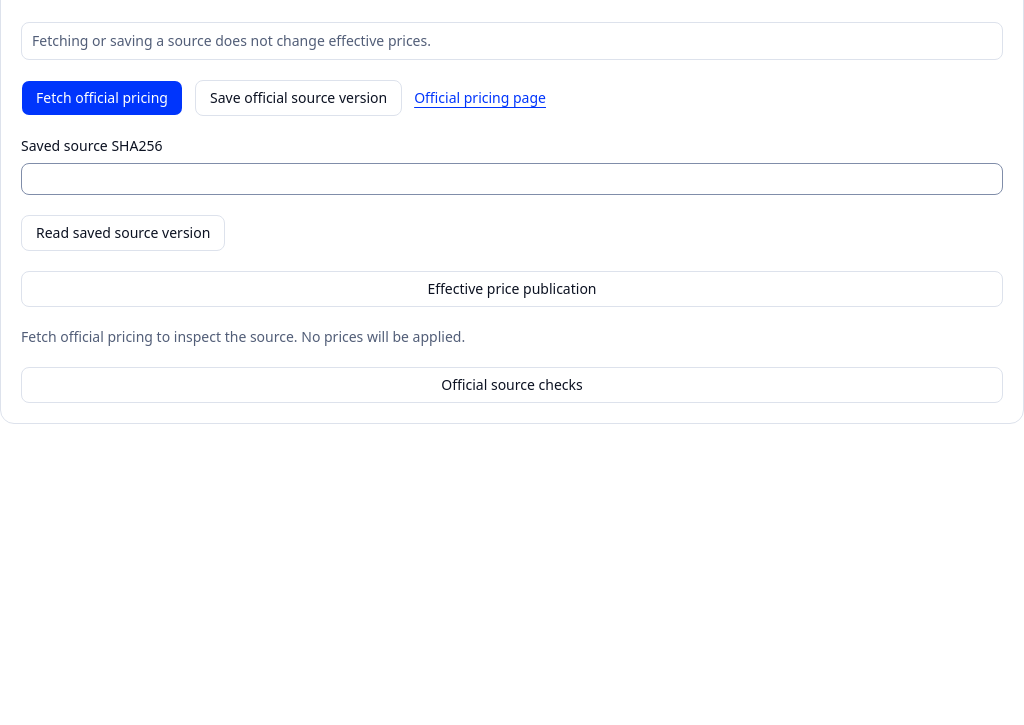
opening status reads saved evidence and distinguishes failed freshness from pending locked publication
Click the button "Official source checks" at coordinates (512, 385), box 21,367 -> 1003,403
(page scrolled)
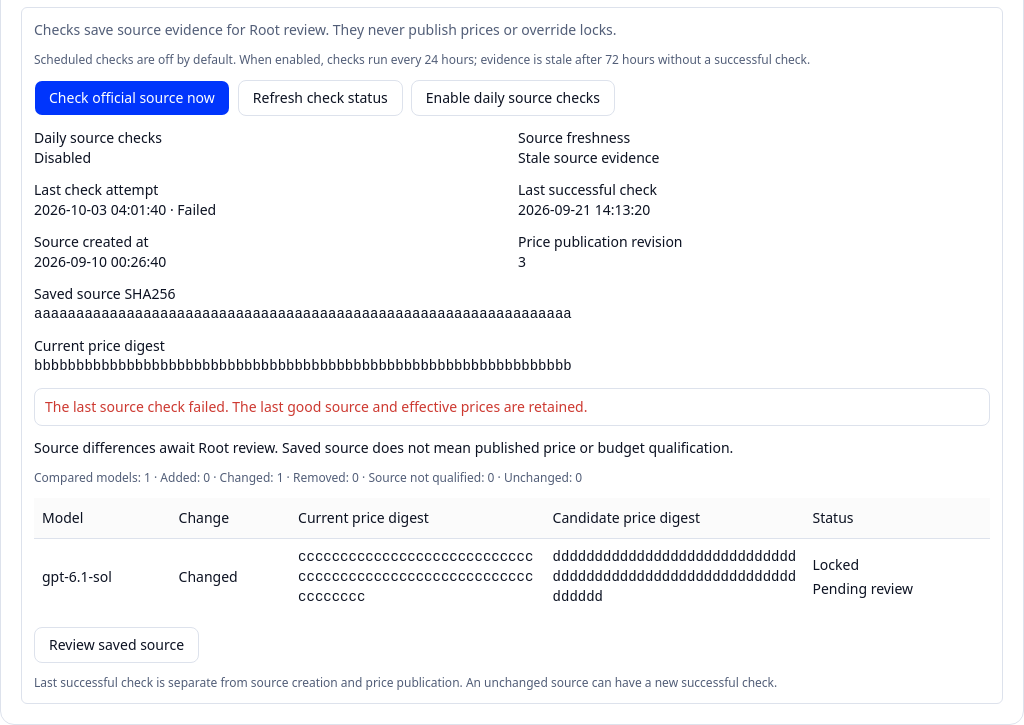
Expected: the text "Stale source evidence" is shown, 518,148 -> 660,167
Expected: the text "The last source check failed. The last good source and effective prices are retained." is shown, 45,397 -> 588,416
Expected: the text "Locked" is shown, 812,555 -> 859,574
